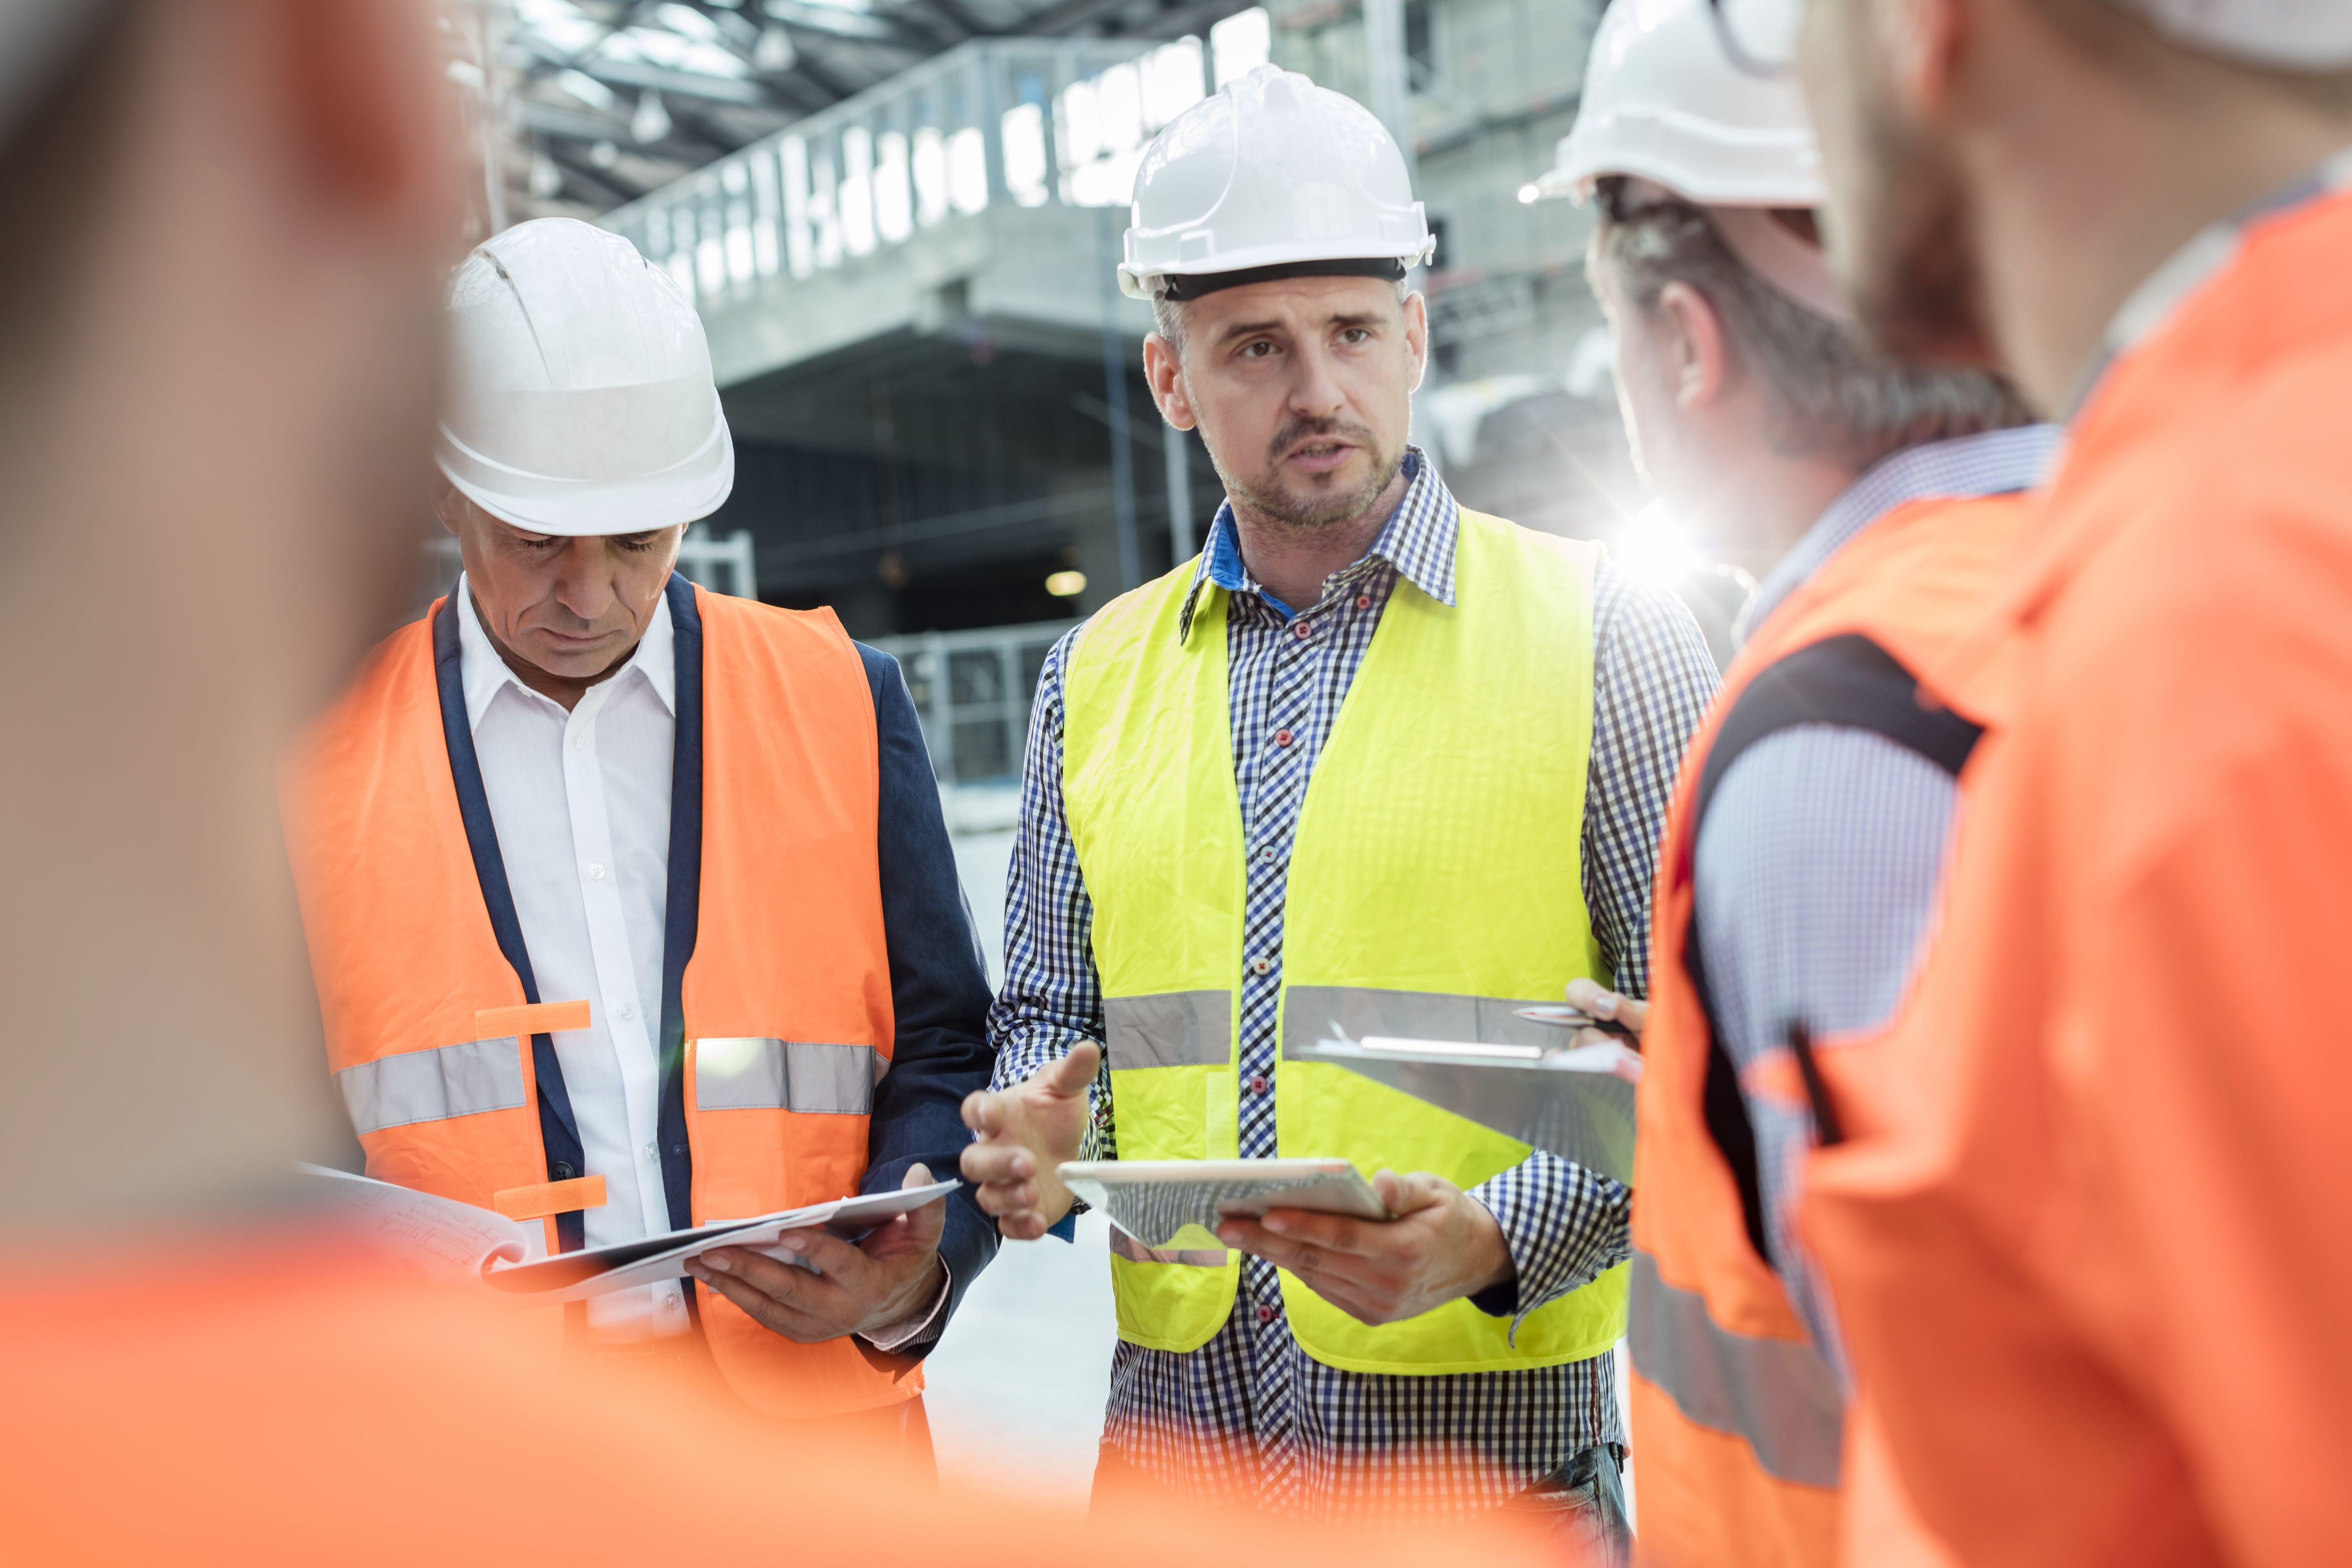helmet: (425, 212, 749, 549), (1514, 0, 1895, 220), (1116, 65, 1433, 278)
